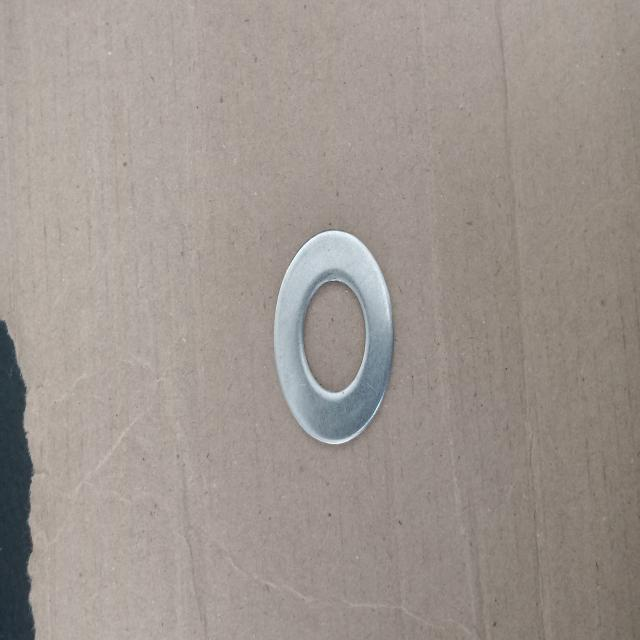washer: (274, 231, 393, 445)
